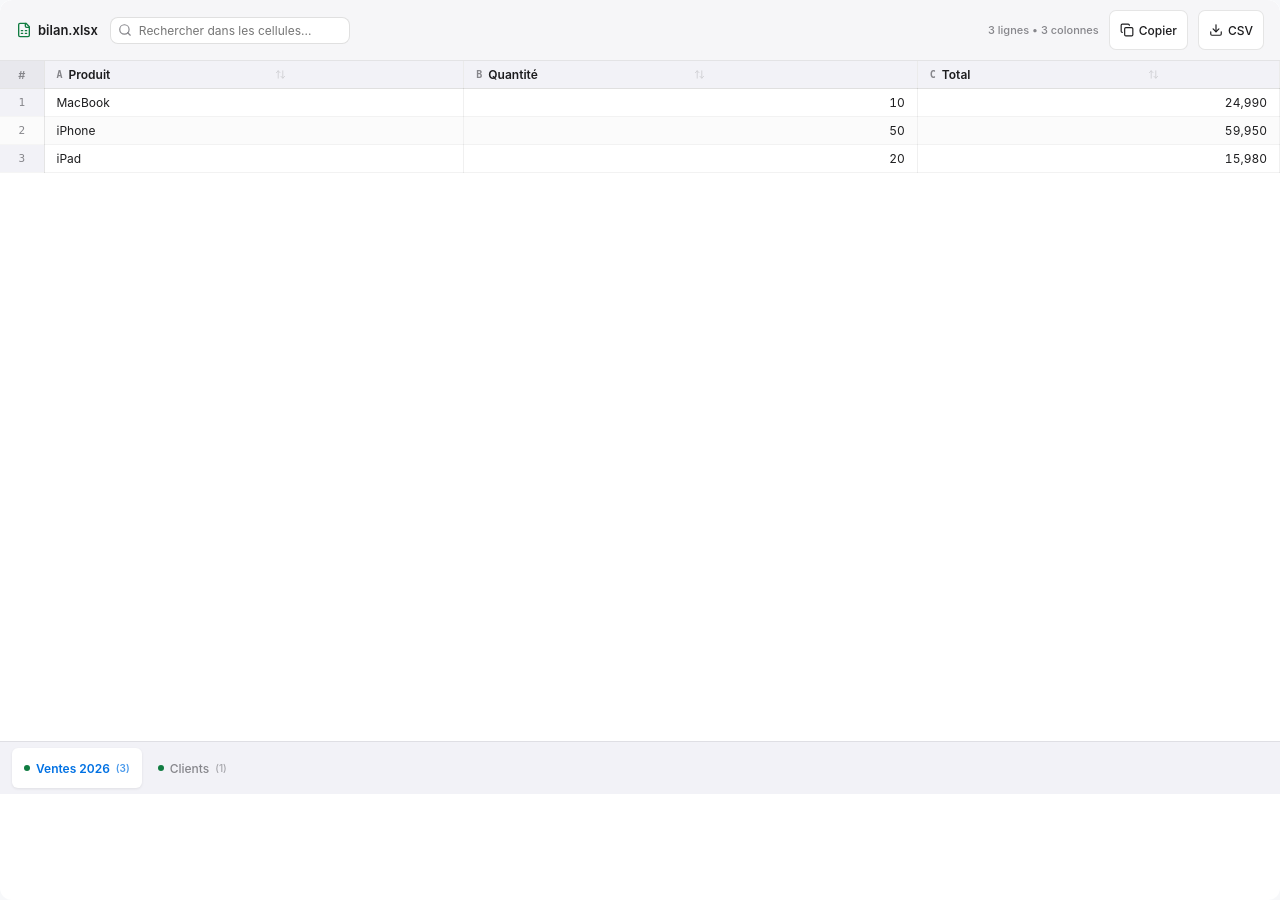
Scenario: Document & File Visualizers › SpreadsheetViewer › filters rows using search input
The width and height of the screenshot is (1280, 900).
In the field with placeholder "Rechercher dans les cellules...": (230, 30) top-left (110, 16), bottom-right (350, 44), type "iPhone"
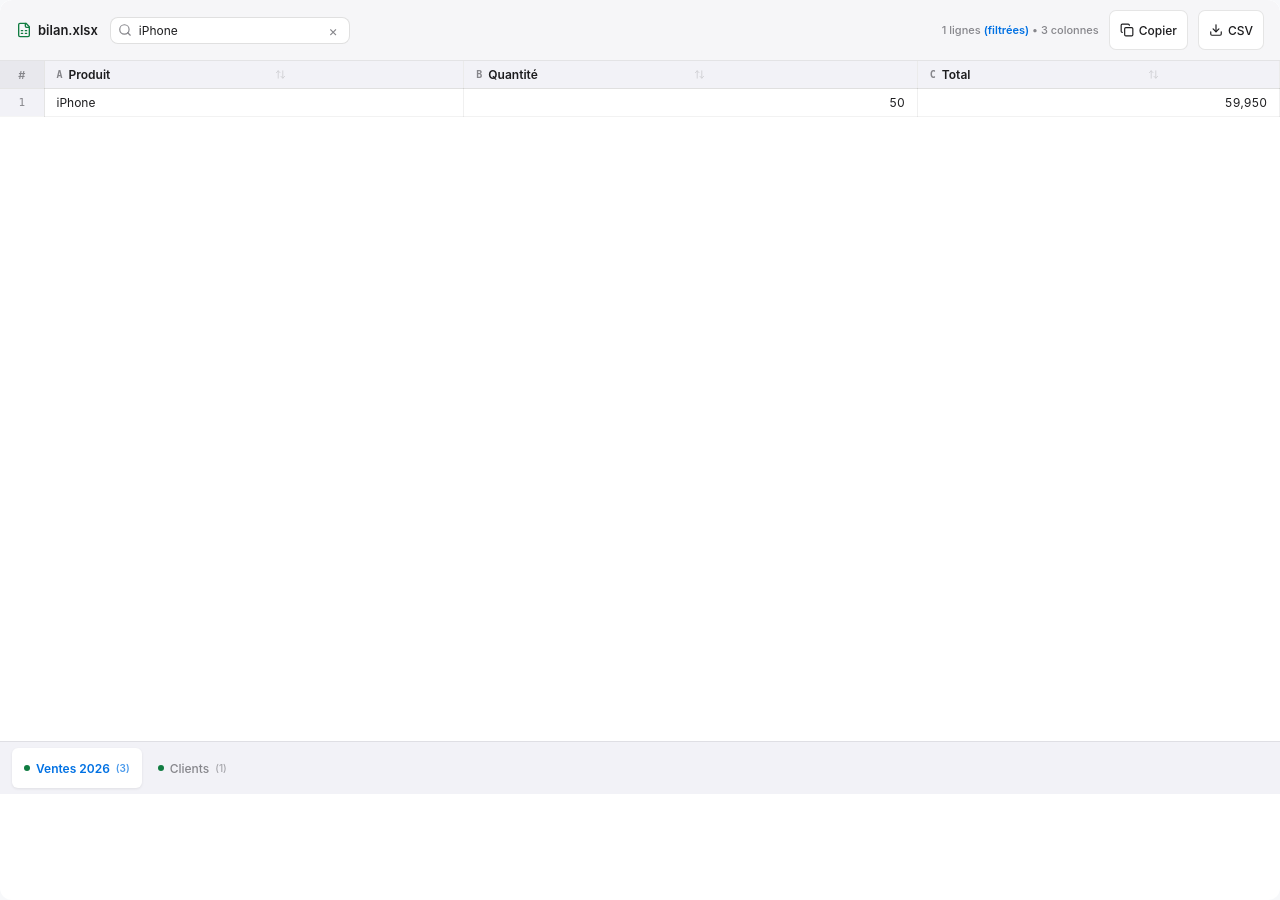
Result: the text "iPhone" is shown at top-left (44, 88), bottom-right (464, 116)
Result: the text "MacBook" is gone
